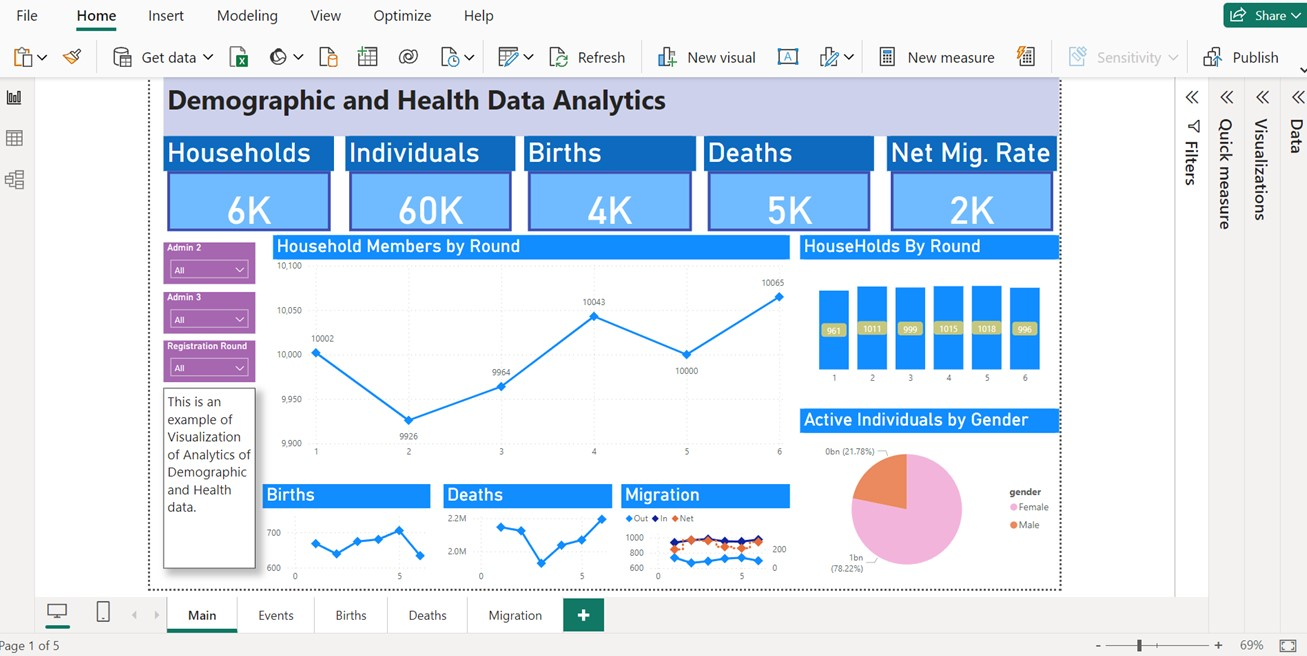

What the dashboard file says about the page in this screenshot:
{"tool":"powerbi","page":{"name":"Main","canvas":[1280,720],"ordinal":0},"visuals":[{"type":"cardVisual","title":"Households","fields":{"Data":["CountNonNull(transformed_households.id)"]},"box":[18.9,83.2,240,139.8],"z":0},{"type":"textbox","box":[0,292.5,244,150],"z":1000},{"type":"textbox","box":[18.9,0,1260.5,83.2],"z":2000},{"type":"cardVisual","title":"Individuals","fields":{"Data":["CountNonNull(transformed_individuals.id)"]},"box":[275,83.3,239.6,139.6],"z":3000},{"type":"cardVisual","title":"Deaths","fields":{"Data":["CountNonNull(transformed_deaths.id)"]},"box":[779.3,83.3,239.6,139.6],"z":4000},{"type":"cardVisual","title":"Births","fields":{"Data":["CountNonNull(transformed_births.id)"]},"box":[527.1,83.3,241.7,139.6],"z":5000},{"type":"cardVisual","title":"Net Mig. Rate","fields":{"Data":["transformed_migration.Net"]},"box":[1037.6,83.3,239.6,139.6],"z":6000},{"type":"lineChart","title":"Household Members by Round","fields":{"Category":["transformed_individuals.registration_round"],"Y":["CountNonNull(transformed_individuals.id)"]},"box":[172.9,222.9,727.2,323],"z":7000},{"type":"clusteredColumnChart","title":"HouseHolds By Round","fields":{"Category":["transformed_households.registration_round"],"Y":["CountNonNull(transformed_households.id)"]},"box":[914.7,222.9,364.6,218.8],"z":8000},{"type":"pieChart","title":"Active Individuals by Gender","fields":{"Y":["Sum(transformed_individuals.id)"],"Category":["transformed_individuals.gender"]},"box":[914.7,466.7,364.6,254.2],"z":9000},{"type":"lineChart","title":"Births","fields":{"Category":["transformed_births.registration_round"],"Y":["CountNonNull(transformed_births.id)"]},"box":[158.7,572.6,236.2,147.4],"z":10000},{"type":"lineChart","title":"Deaths","fields":{"Y":["Sum(transformed_deaths.id)"],"Category":["transformed_deaths.registration_round"]},"box":[412.5,573,237.5,147.9],"z":11000},{"type":"lineChart","title":"Migration","fields":{"Category":["transformed_migration.registration_round"],"Y":["transformed_migration.total_migration_out","transformed_migration.total_migration_in"],"Y2":["transformed_migration.Net"]},"box":[662.6,573,237.5,147.9],"z":12000},{"type":"slicer","title":"Admin 2","fields":{"Values":["transformed_households.admin_2"]},"box":[18.8,233.4,129.2,58.3],"z":13000},{"type":"slicer","title":"Admin 3","fields":{"Values":["transformed_households.admin_3"]},"box":[18.8,302.1,129.2,58.3],"z":14000},{"type":"slicer","title":"Registration Round","fields":{"Values":["registration_round.id"]},"box":[18.8,370.9,129.2,58.3],"z":15000},{"type":"textbox","box":[18.8,437.6,129.2,254.2],"z":16000}]}

Visuals, with their boxes on the page's 1280x720 design canvas (x1, y1, x2, y2). These are canvas units, not pixel positions in the 1307x656 screenshot, which may show the page scaled, cropped or inside an application window:
"Households" cardVisual: (left=19, top=83, right=259, bottom=223)
textbox: (left=0, top=292, right=244, bottom=442)
textbox: (left=19, top=0, right=1279, bottom=83)
"Individuals" cardVisual: (left=275, top=83, right=515, bottom=223)
"Deaths" cardVisual: (left=779, top=83, right=1019, bottom=223)
"Births" cardVisual: (left=527, top=83, right=769, bottom=223)
"Net Mig. Rate" cardVisual: (left=1038, top=83, right=1277, bottom=223)
"Household Members by Round" lineChart: (left=173, top=223, right=900, bottom=546)
"HouseHolds By Round" clusteredColumnChart: (left=915, top=223, right=1279, bottom=442)
"Active Individuals by Gender" pieChart: (left=915, top=467, right=1279, bottom=721)
"Births" lineChart: (left=159, top=573, right=395, bottom=720)
"Deaths" lineChart: (left=412, top=573, right=650, bottom=721)
"Migration" lineChart: (left=663, top=573, right=900, bottom=721)
"Admin 2" slicer: (left=19, top=233, right=148, bottom=292)
"Admin 3" slicer: (left=19, top=302, right=148, bottom=360)
"Registration Round" slicer: (left=19, top=371, right=148, bottom=429)
textbox: (left=19, top=438, right=148, bottom=692)
